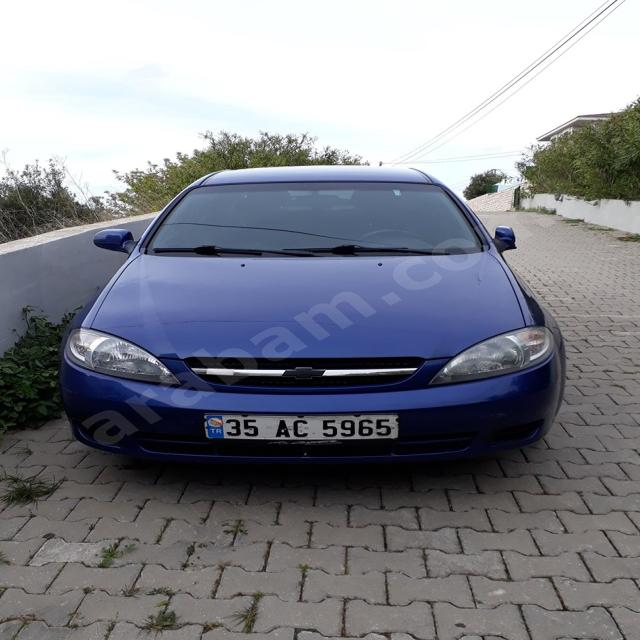license_plate: (206, 413, 400, 440)
